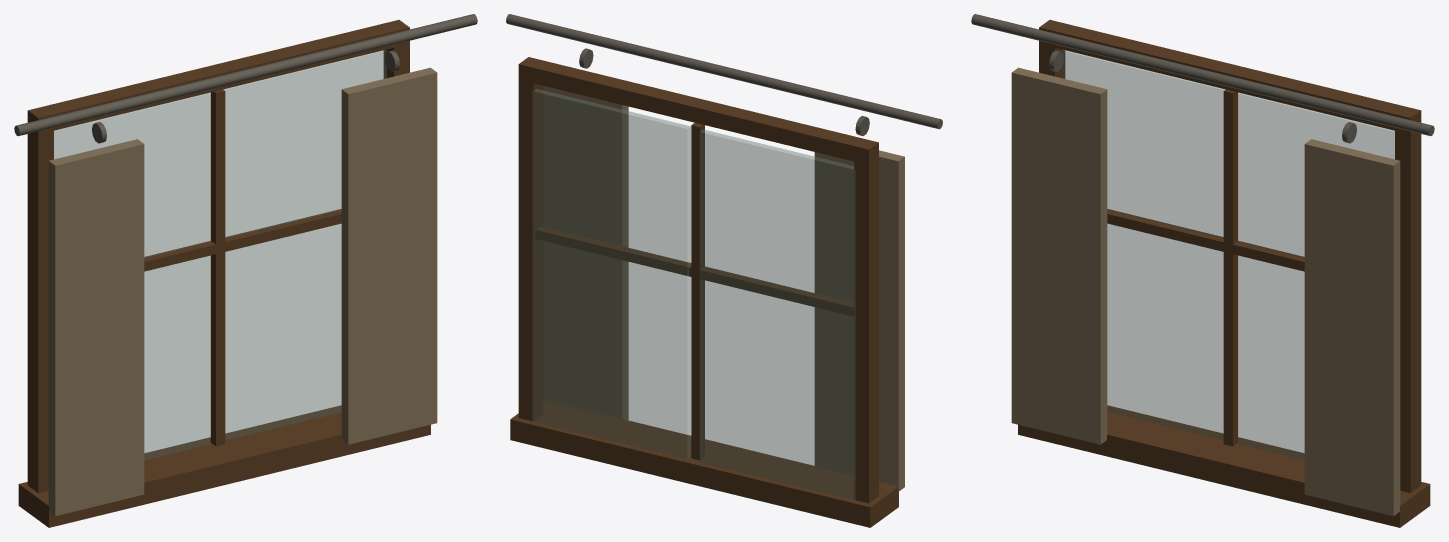
Rendered from window_curtains_80s.glb.
The picture shows the model from 3 angles, left to right: view 1: azimuth 30°, elevation 25°; view 2: azimuth 150°, elevation 25°; view 3: azimuth 330°, elevation 25°; orthographic projection. The views are drawn at different scales.
Parts seen in each view (by area): view 1: glass__glass_right, fabric__torn_curtain, _MeshInstance3D_109, glass__glass_left, wood__sill, wood__left_jamb, wood__top_frame, wood__mullion, metal__curtain_rod, wood__crossbar, wood__right_jamb; view 2: glass__glass_right, glass__glass_left, _MeshInstance3D_109, fabric__torn_curtain, wood__sill, wood__top_frame, wood__right_jamb, wood__left_jamb, metal__curtain_rod, wood__mullion, wood__crossbar; view 3: glass__glass_left, fabric__torn_curtain, _MeshInstance3D_109, glass__glass_right, wood__sill, wood__right_jamb, wood__top_frame, wood__mullion, metal__curtain_rod, wood__crossbar, wood__left_jamb.
Part boxes in pixels (x1=…): glass__glass_right: x1=223, y1=50, x2=386, y2=440; fabric__torn_curtain: x1=48, y1=139, x2=144, y2=515; _MeshInstance3D_109: x1=341, y1=67, x2=437, y2=444; glass__glass_left: x1=54, y1=93, x2=210, y2=459; wood__sill: x1=18, y1=405, x2=430, y2=527; wood__left_jamb: x1=27, y1=112, x2=53, y2=492; wood__top_frame: x1=27, y1=20, x2=409, y2=133; wood__mullion: x1=210, y1=89, x2=225, y2=446; metal__curtain_rod: x1=14, y1=14, x2=477, y2=136; wood__crossbar: x1=144, y1=209, x2=341, y2=271; wood__right_jamb: x1=383, y1=29, x2=409, y2=78; glass__glass_right: x1=532, y1=89, x2=690, y2=459; glass__glass_left: x1=699, y1=129, x2=855, y2=500; _MeshInstance3D_109: x1=543, y1=86, x2=628, y2=420; fabric__torn_curtain: x1=814, y1=150, x2=904, y2=491; wood__sill: x1=510, y1=400, x2=898, y2=527; wood__top_frame: x1=518, y1=57, x2=878, y2=164; wood__right_jamb: x1=518, y1=65, x2=543, y2=421; wood__left_jamb: x1=854, y1=144, x2=878, y2=503; metal__curtain_rod: x1=506, y1=14, x2=942, y2=129; wood__mullion: x1=691, y1=123, x2=704, y2=460; wood__crossbar: x1=535, y1=226, x2=854, y2=316; glass__glass_left: x1=1062, y1=50, x2=1225, y2=439; fabric__torn_curtain: x1=1011, y1=67, x2=1107, y2=444; _MeshInstance3D_109: x1=1304, y1=139, x2=1400, y2=515; glass__glass_right: x1=1238, y1=93, x2=1394, y2=459; wood__sill: x1=1018, y1=405, x2=1430, y2=527; wood__right_jamb: x1=1395, y1=112, x2=1421, y2=492; wood__top_frame: x1=1039, y1=20, x2=1421, y2=132; wood__mullion: x1=1223, y1=89, x2=1238, y2=446; metal__curtain_rod: x1=971, y1=14, x2=1434, y2=136; wood__crossbar: x1=1107, y1=209, x2=1304, y2=271; wood__left_jamb: x1=1039, y1=29, x2=1065, y2=78.
Size of the model in its own units: 1.75 by 1.52 by 0.275.
